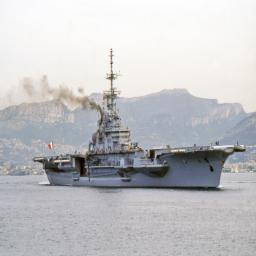Portanaves: (33, 46, 248, 192)
